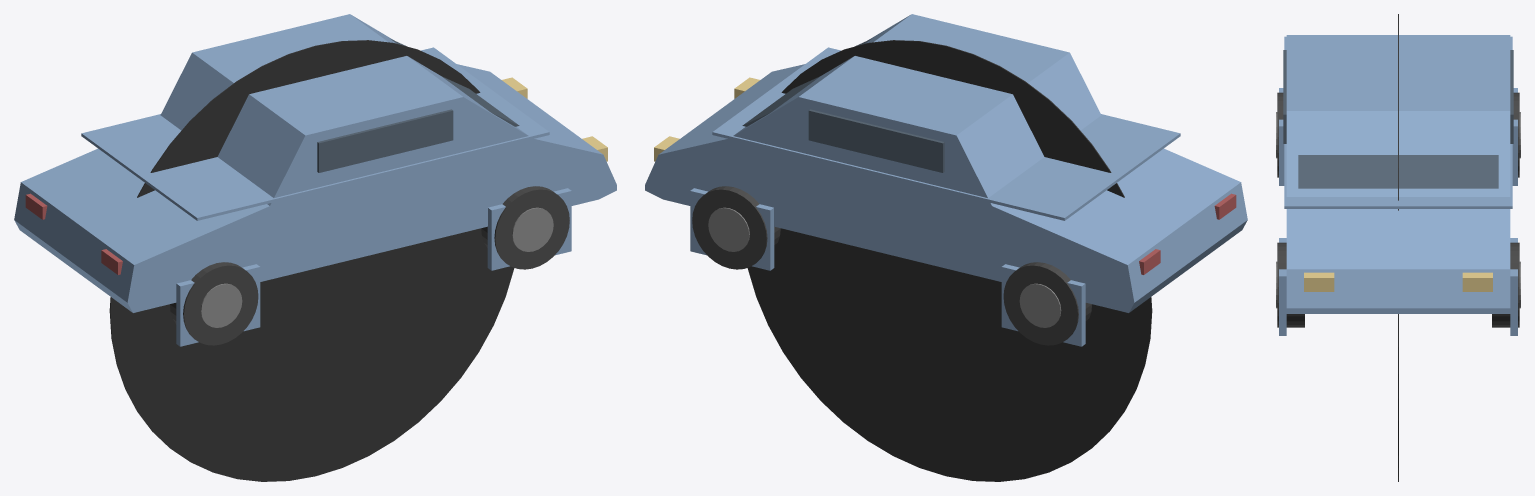
Rendered from compact.glb.
The picture shows the model from 3 angles, left to right: view 1: azimuth 30°, elevation 25°; view 2: azimuth 150°, elevation 25°; view 3: azimuth 270°, elevation 25°; orthographic projection.
Visible parts, largest first — view 1: body, shadow, beltline, side_glass_0, tire_2, tire_0, rim_0, rim_2, arch_2, arch_0; view 2: body, shadow, beltline, side_glass_1, tire_3, tire_1, rim_1, rim_3, arch_3, arch_1; view 3: body, glass, beltline, tire_0, tire_1, headlight_0, headlight_1, arch_0, arch_1, arch_2, arch_3, side_glass_0 (+4 smaller).
Part boxes in pixels (left/top/right/bottom): body: left=14, top=14, right=616, bottom=312; shadow: left=109, top=40, right=514, bottom=481; beltline: left=81, top=47, right=549, bottom=220; side_glass_0: left=317, top=109, right=453, bottom=172; tire_2: left=170, top=262, right=258, bottom=345; tire_0: left=481, top=186, right=569, bottom=269; rim_0: left=512, top=207, right=553, bottom=251; rim_2: left=200, top=283, right=242, bottom=327; arch_2: left=176, top=264, right=260, bottom=346; arch_0: left=487, top=188, right=571, bottom=270; body: left=645, top=14, right=1247, bottom=312; shadow: left=747, top=40, right=1152, bottom=481; beltline: left=712, top=47, right=1180, bottom=220; side_glass_1: left=808, top=109, right=944, bottom=172; tire_3: left=1003, top=262, right=1091, bottom=345; tire_1: left=692, top=186, right=780, bottom=269; rim_1: left=708, top=207, right=749, bottom=251; rim_3: left=1019, top=283, right=1061, bottom=327; arch_3: left=1001, top=264, right=1085, bottom=346; arch_1: left=690, top=188, right=774, bottom=270; body: left=1286, top=35, right=1510, bottom=313; glass: left=1298, top=155, right=1498, bottom=188; beltline: left=1284, top=36, right=1512, bottom=208; tire_0: left=1277, top=242, right=1304, bottom=327; tire_1: left=1492, top=242, right=1519, bottom=327; headlight_0: left=1304, top=272, right=1334, bottom=291; headlight_1: left=1462, top=272, right=1492, bottom=291; arch_0: left=1279, top=238, right=1286, bottom=335; arch_1: left=1510, top=238, right=1517, bottom=335; arch_2: left=1279, top=88, right=1284, bottom=185; arch_3: left=1512, top=88, right=1517, bottom=185; side_glass_0: left=1283, top=50, right=1286, bottom=143.
Bounding box in the file's own units: 4.4 × 3.7 × 1.93.
